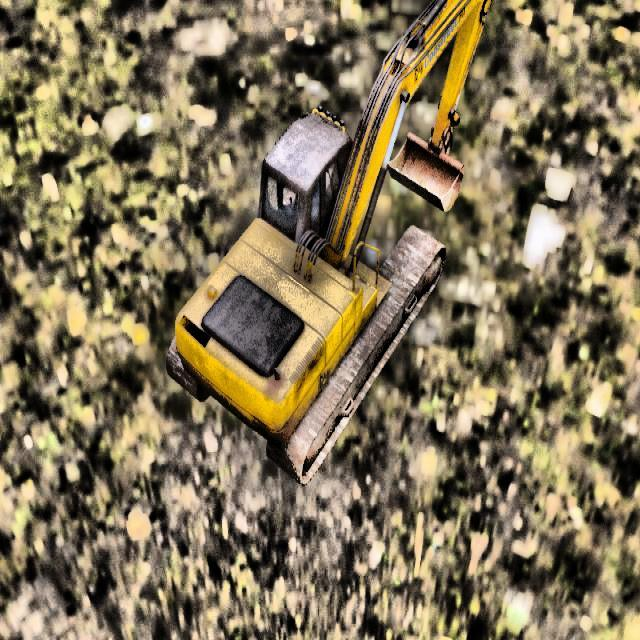excavator: (166, 0, 492, 486)
